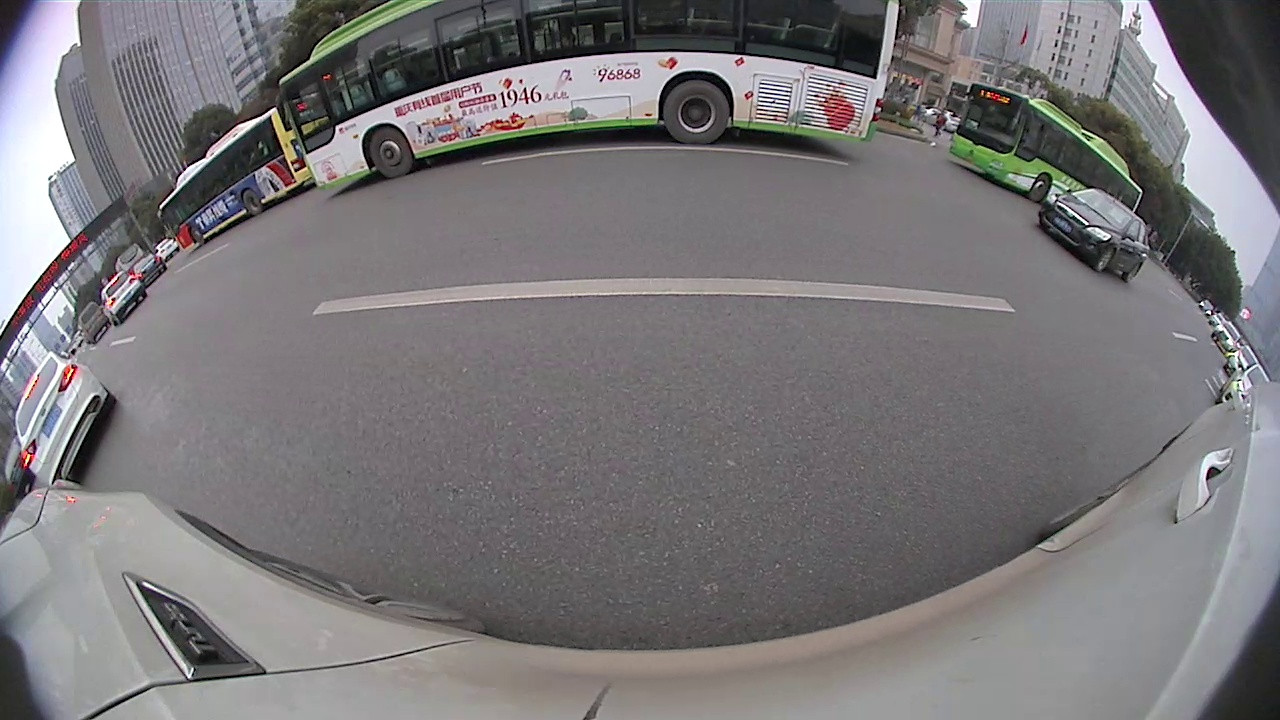bus: (272, 1, 901, 197), (949, 77, 1144, 242), (154, 109, 312, 254)
car: (16, 351, 115, 489), (1037, 186, 1152, 287)
front: (371, 124, 415, 181), (1028, 171, 1053, 206), (1095, 248, 1114, 275)
rear: (663, 78, 732, 147), (241, 189, 263, 217), (1124, 261, 1141, 283)
